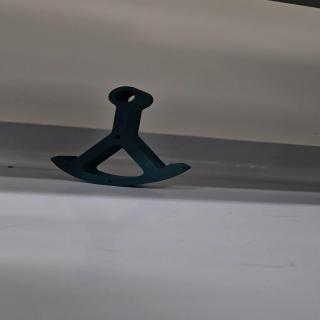haptic: (50, 86, 192, 188)
